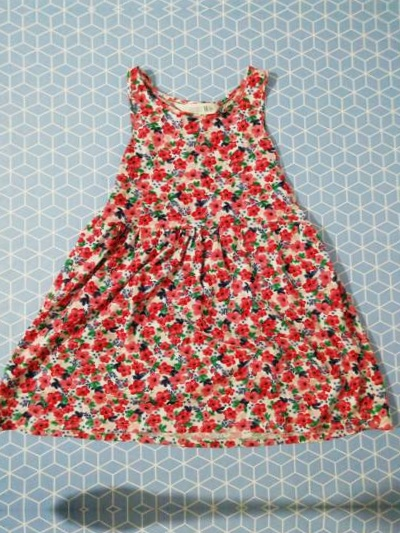Dress: (0, 67, 388, 462)
